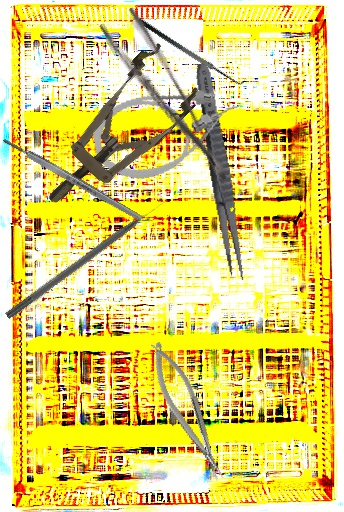Cannula: (87, 78, 250, 187)
Dressing Forceps: (97, 5, 232, 197), (190, 61, 251, 283)
Needle Holder: (142, 335, 231, 488)
Pusher: (4, 197, 170, 322)
Scalpel Handle: (1, 135, 144, 224)
Spatula Surgical: (136, 9, 248, 91)
Speculum: (23, 38, 209, 227)
